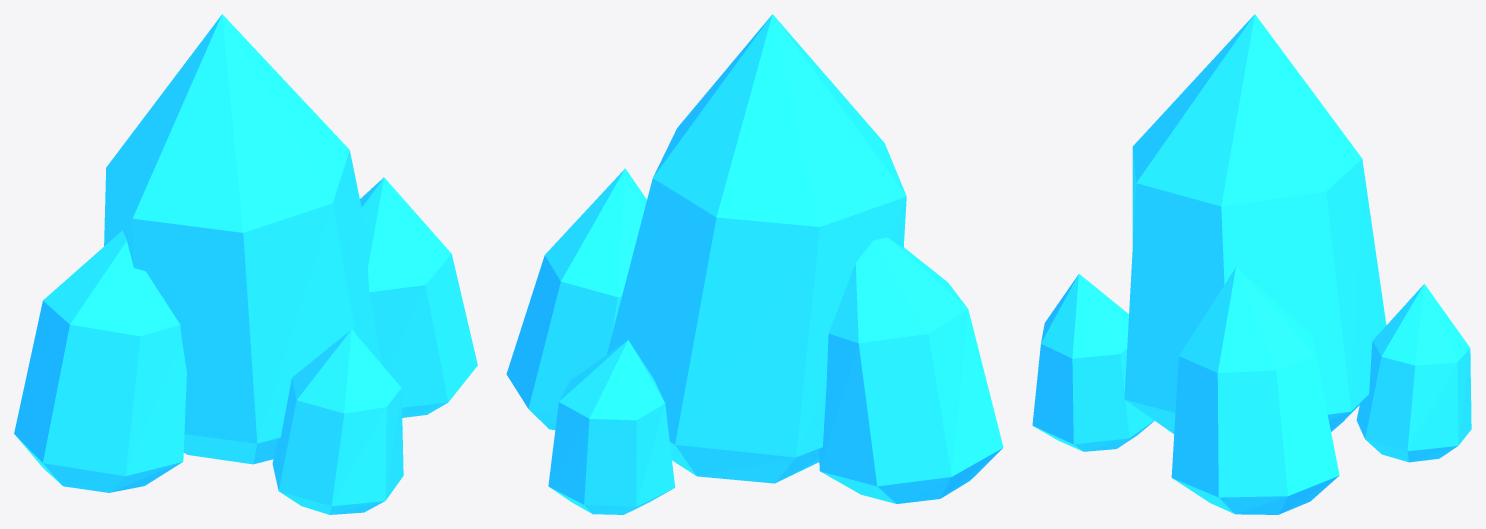
The model's file is AnomalousCrystal.fbx.
3 views of the same model, side by side, from view 1: azimuth 30°, elevation 25°; view 2: azimuth 150°, elevation 25°; view 3: azimuth 270°, elevation 25° (orthographic). The views are drawn at different scales.
Parts seen in each view (by area): view 1: Anomalous_Deposit_B_LOD0; view 2: Anomalous_Deposit_B_LOD0; view 3: Anomalous_Deposit_B_LOD0.
Part boxes in pixels (x1,y1,x2,y2): Anomalous_Deposit_B_LOD0: (14,14,477,514); Anomalous_Deposit_B_LOD0: (506,14,1003,514); Anomalous_Deposit_B_LOD0: (1032,14,1471,514).
Size of the model in its own units: 9055 by 8503 by 8266.
